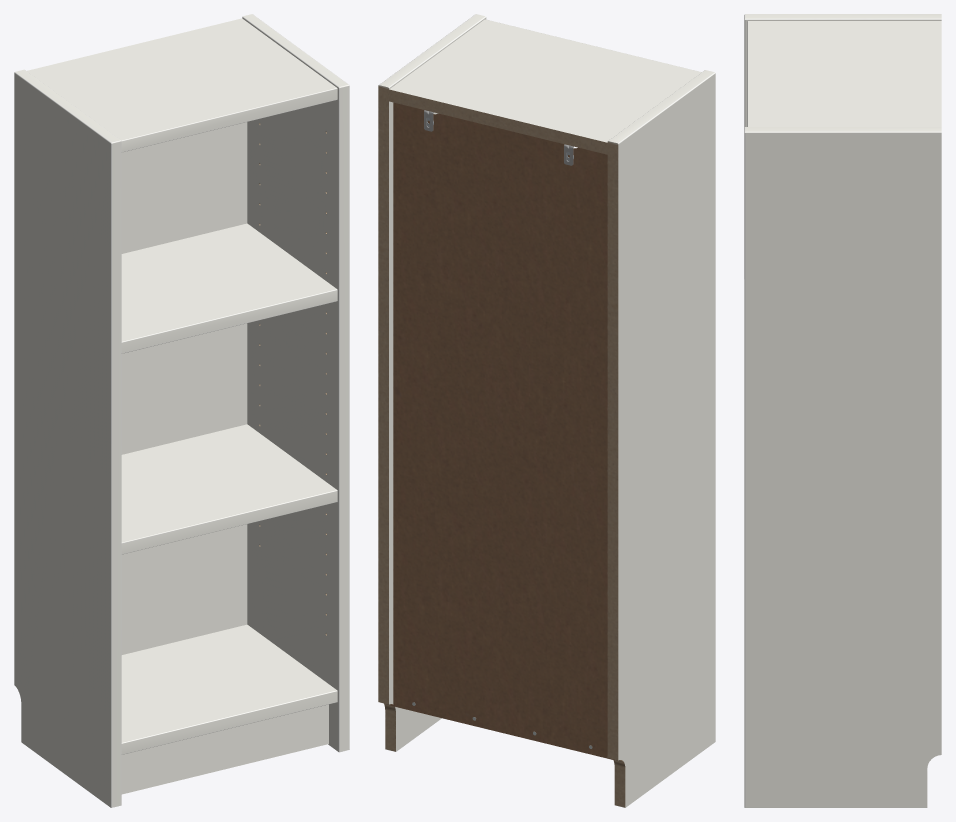
The model's file is 05 - BILLY Bookcase - white 40x28x106 cm.glb.
3 renders of one model, left to right at view 1: azimuth 30°, elevation 25°; view 2: azimuth 150°, elevation 25°; view 3: azimuth 270°, elevation 25°, orthographic.
Visible parts, largest first — view 1: Mesh_0; view 2: Mesh_0; view 3: Mesh_0.
Part boxes in pixels (box(x1,y1,x2,y2)): Mesh_0: box(14, 14, 349, 807); Mesh_0: box(378, 14, 715, 807); Mesh_0: box(744, 14, 941, 807).
Bounding box in the file's own units: 0.398 × 1.06 × 0.28.
1 material, 1 textured.
